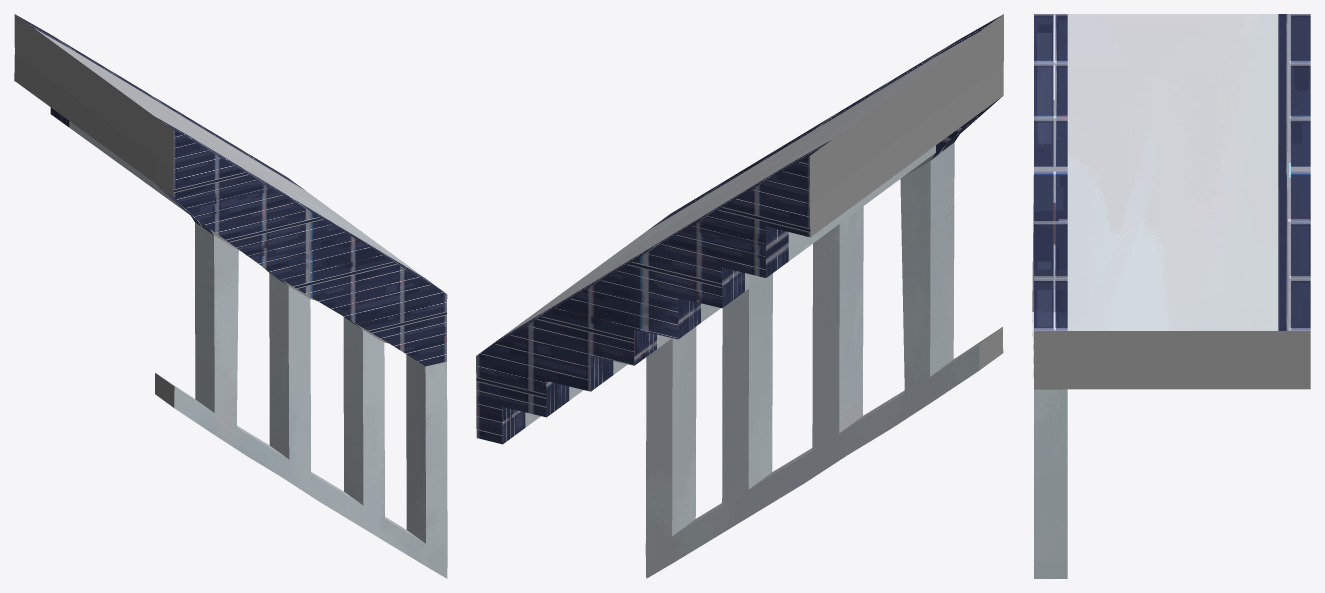
Rendered from Stair.fbx.
3 renders of one model, left to right at view 1: azimuth 30°, elevation 25°; view 2: azimuth 150°, elevation 25°; view 3: azimuth 270°, elevation 25°, orthographic. The views are drawn at different scales.
Visible parts, largest first — view 1: Stair; view 2: Stair; view 3: Stair.
Part boxes in pixels (x1,y1,x2,y2): Stair: (14, 14, 447, 578); Stair: (476, 14, 1003, 578); Stair: (1032, 14, 1310, 578).
Bounding box in the file's own units: 438 × 786 × 442.
4 materials, 3 textured.
